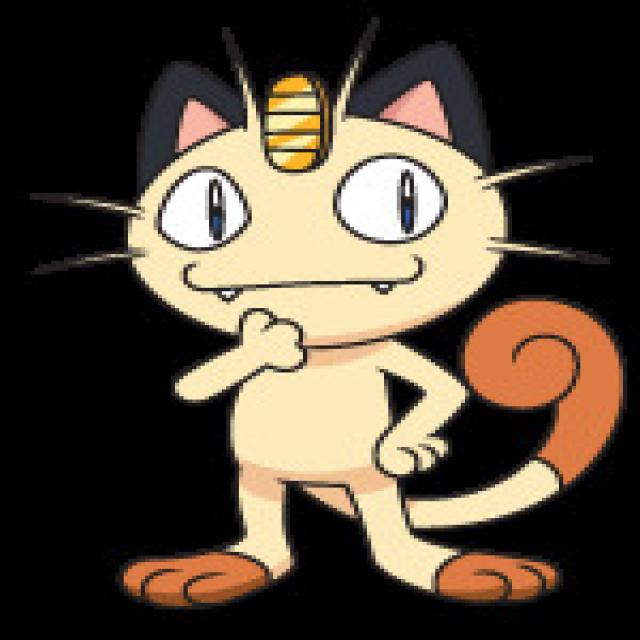Meowth: (114, 62, 536, 612)
